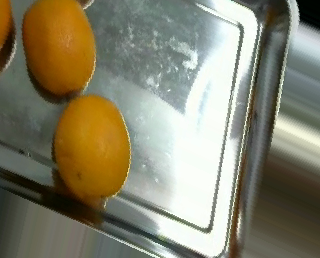Orange: (52, 94, 131, 198), (22, 1, 97, 95)
